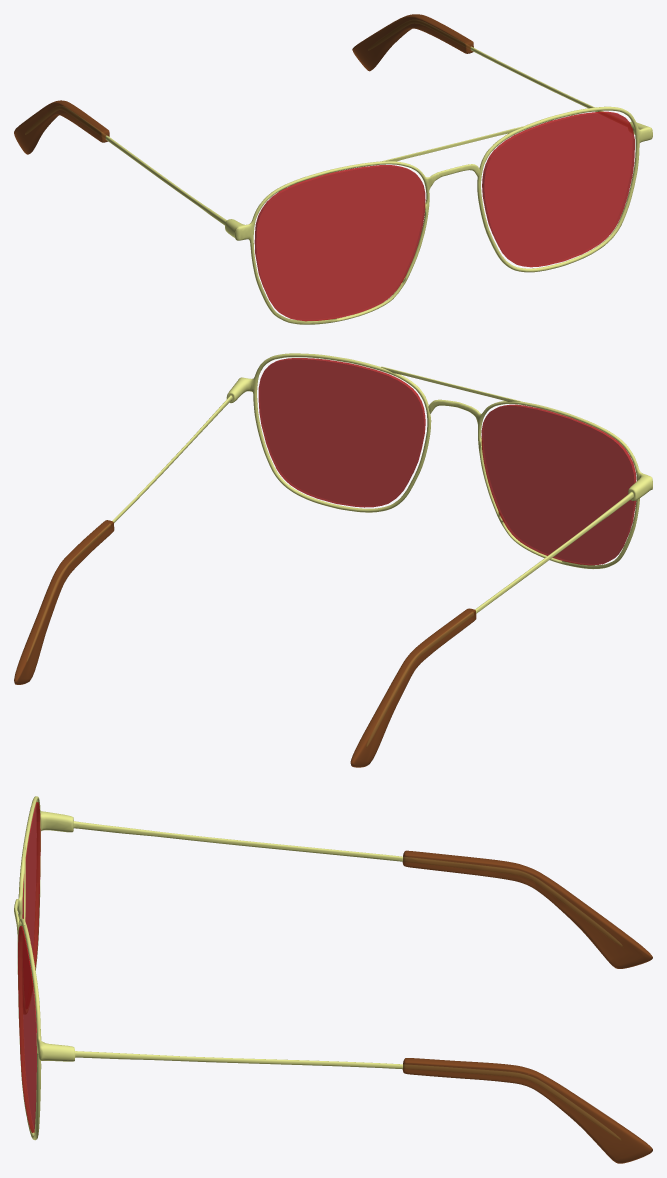
3 renders of one model, top to bottom at view 1: azimuth 30°, elevation 25°; view 2: azimuth 150°, elevation 25°; view 3: azimuth 270°, elevation 25°, orthographic. The views are drawn at different scales.
Visible parts, largest first — view 1: zdaja 2_0, zdaja.001_1, Plane.001_6, karkas.003_4, karkas.002_3, Plane_5; view 2: zdaja.001_1, zdaja 2_0, Plane.001_6, karkas.003_4, karkas.002_3; view 3: Plane.001_6, karkas.002_3, karkas.003_4, zdaja.001_1, zdaja 2_0.
Boxes of the visible parts, box(x1,y1,x2,y2) form: zdaja 2_0: box(254, 165, 425, 321); zdaja.001_1: box(482, 111, 634, 267); Plane.001_6: box(14, 14, 473, 154); karkas.003_4: box(25, 106, 480, 324); karkas.002_3: box(369, 20, 652, 272); Plane_5: box(382, 126, 523, 161); zdaja.001_1: box(258, 358, 425, 507); zdaja 2_0: box(481, 404, 636, 565); Plane.001_6: box(14, 520, 476, 767); karkas.003_4: box(366, 399, 652, 747); karkas.002_3: box(27, 353, 431, 660); Plane.001_6: box(402, 850, 652, 1163); karkas.002_3: box(17, 918, 620, 1140); karkas.003_4: box(14, 796, 622, 970); zdaja.001_1: box(18, 926, 36, 1132); zdaja 2_0: box(22, 802, 40, 969).
Bounding box in the file's own units: 35.39 × 12.73 × 40.21.
